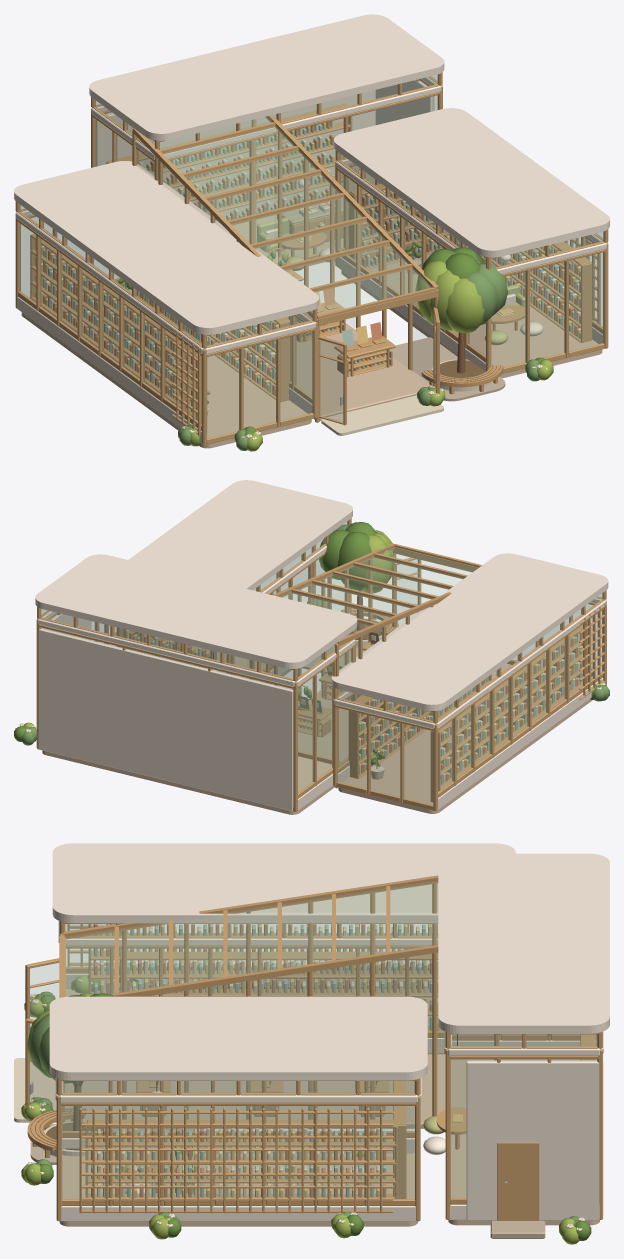
3 renders of one model, top to bottom at view 1: azimuth 30°, elevation 25°; view 2: azimuth 150°, elevation 25°; view 3: azimuth 270°, elevation 25°, orthographic. The views are drawn at different scales.
Parts seen in each view (by area): view 1: R 三片圆角奶油屋顶, A 三馆端部玻璃, A 书馆侧面木玻璃, R 书街透明单坡顶, I 书脊与册页, S 三馆内木楼板, A 环形高侧窗, I 纵向主题书架, A 高侧窗下白梁, L 乔木 · 枝干与树冠, R 中庭玻璃顶分格, I 后馆主题书架 书脊 (+25 smaller); view 2: R 三片圆角奶油屋顶, A 后馆背侧实墙, A 书馆侧面木玻璃, A 三馆端部玻璃, I 书脊与册页, A 环形高侧窗, S 三馆内木楼板, R 书街透明单坡顶, I 纵向主题书架, A 高侧窗下白梁, L 乔木 · 枝干与树冠, R 中庭玻璃顶分格 (+13 smaller); view 3: R 三片圆角奶油屋顶, A 书馆侧面木玻璃, R 书街透明单坡顶, A 后馆东实墙, I 书脊与册页, A 书页尺度木格栅, I 纵向主题书架, A 环形高侧窗, A 书馆下墙裙, S 三馆内木楼板, A 中庭侧透明围护, A 高侧窗下白梁 (+16 smaller).
Boxes of the visible parts, x1,y1,x2,y2 form: R 三片圆角奶油屋顶: (14, 14, 609, 334); A 三馆端部玻璃: (18, 92, 607, 445); A 书馆侧面木玻璃: (15, 79, 604, 431); R 书街透明单坡顶: (149, 117, 430, 314); I 书脊与册页: (35, 240, 580, 414); S 三馆内木楼板: (21, 184, 602, 448); A 环形高侧窗: (15, 72, 608, 348); I 纵向主题书架: (30, 234, 592, 432); A 高侧窗下白梁: (16, 77, 607, 354); L 乔木 · 枝干与树冠: (415, 247, 508, 373); R 中庭玻璃顶分格: (159, 122, 437, 318); I 后馆主题书架 书脊: (138, 120, 334, 222); R 三片圆角奶油屋顶: (35, 480, 608, 710); A 后馆背侧实墙: (38, 628, 293, 811); A 书馆侧面木玻璃: (40, 552, 606, 799); A 三馆端部玻璃: (37, 540, 601, 811); I 书脊与册页: (130, 631, 582, 785); A 环形高侧窗: (37, 518, 606, 723); S 三馆内木楼板: (42, 646, 592, 814); R 书街透明单坡顶: (281, 547, 477, 631); I 纵向主题书架: (116, 622, 591, 802); A 高侧窗下白梁: (37, 545, 606, 728); L 乔木 · 枝干与树冠: (319, 522, 394, 630); R 中庭玻璃顶分格: (291, 544, 482, 645); R 三片圆角奶油屋顶: (49, 843, 609, 1080); A 书馆侧面木玻璃: (58, 924, 601, 1206); R 书街透明单坡顶: (65, 881, 437, 996); A 后馆东实墙: (466, 1060, 599, 1220); I 书脊与册页: (91, 924, 439, 1197); A 书页尺度木格栅: (67, 924, 393, 1213); I 纵向主题书架: (85, 924, 442, 1198); A 环形高侧窗: (56, 921, 602, 1095); A 书馆下墙裙: (61, 973, 596, 1221); S 三馆内木楼板: (59, 989, 599, 1226); A 中庭侧透明围护: (156, 953, 444, 1122); A 高侧窗下白梁: (55, 921, 603, 1102).
Size of the model in its own units: 20.27 by 7.4 by 19.62.
